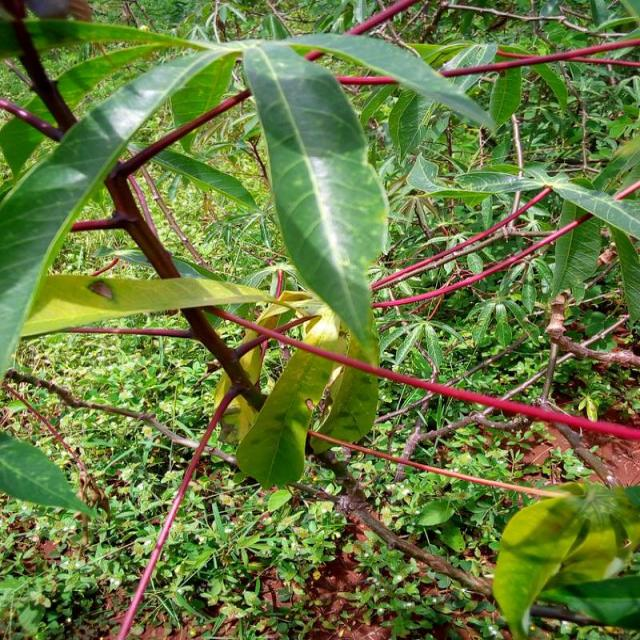cassava leaf: (0, 43, 242, 379), (240, 40, 390, 358), (492, 480, 638, 638)
